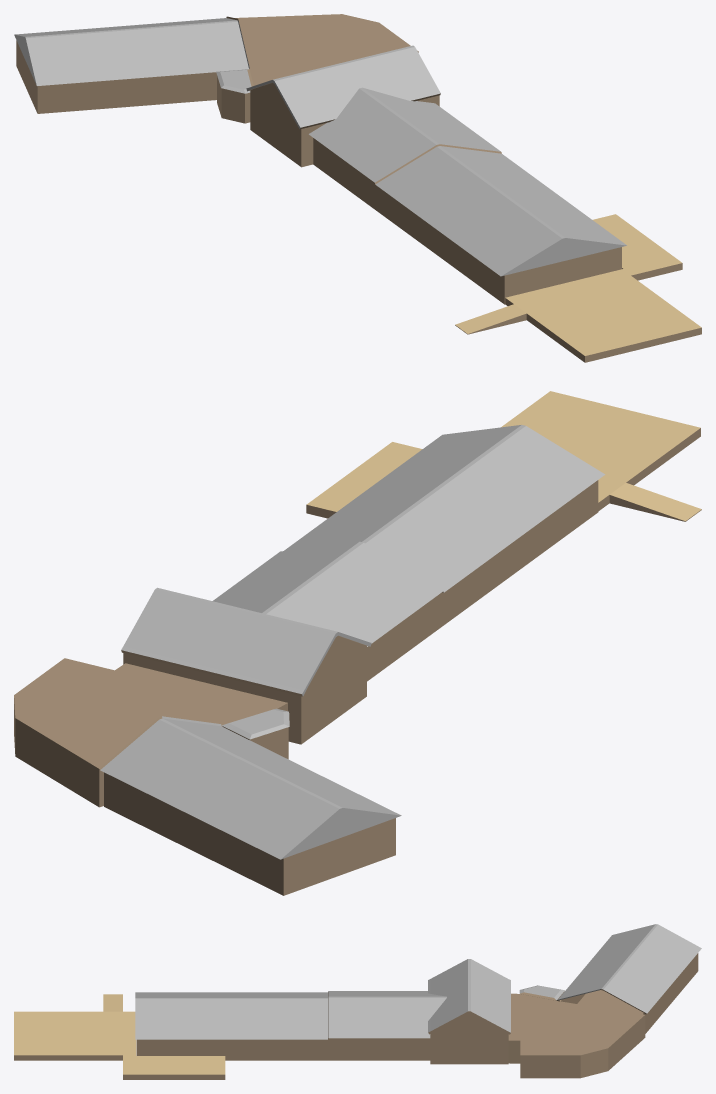
File: sej_pavillion.glb
3 views of the same model, one above another, from view 1: azimuth 30°, elevation 25°; view 2: azimuth 150°, elevation 25°; view 3: azimuth 270°, elevation 25° (orthographic). The views are drawn at different scales.
Parts seen in each view (by area): view 1: SEJPavillion; view 2: SEJPavillion; view 3: SEJPavillion.
Part boxes in pixels (left/top/right/bottom): SEJPavillion: left=14, top=14, right=701, bottom=362; SEJPavillion: left=14, top=391, right=701, bottom=895; SEJPavillion: left=14, top=924, right=701, bottom=1079.
Bounding box in the file's own units: 31.84 × 6.41 × 75.79.
1 material, 1 textured.
